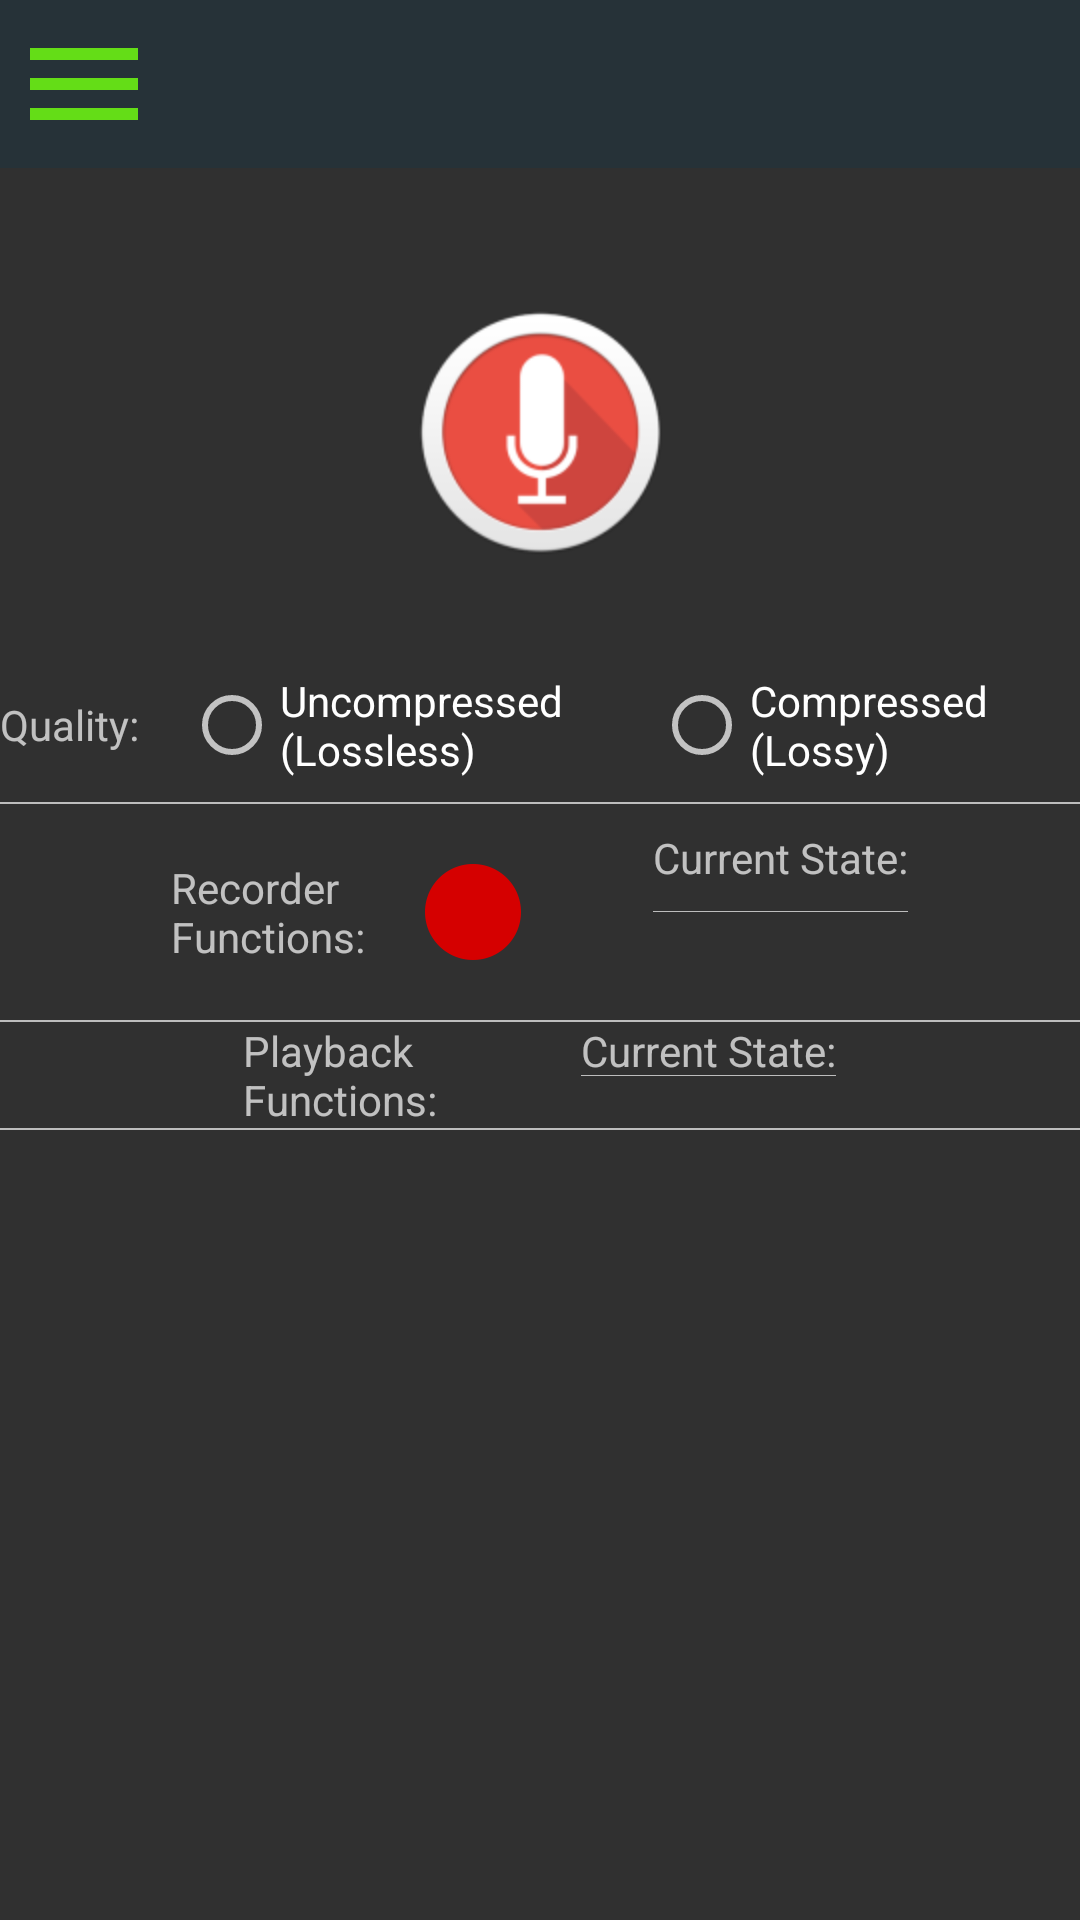

Named icons in this screenshot (1080*1920) and their centers, (x=x, y=y):
fiber manual record: (x=473, y=912)
